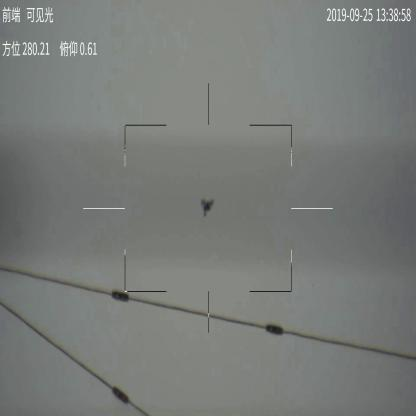uav: (198, 195, 216, 221)
